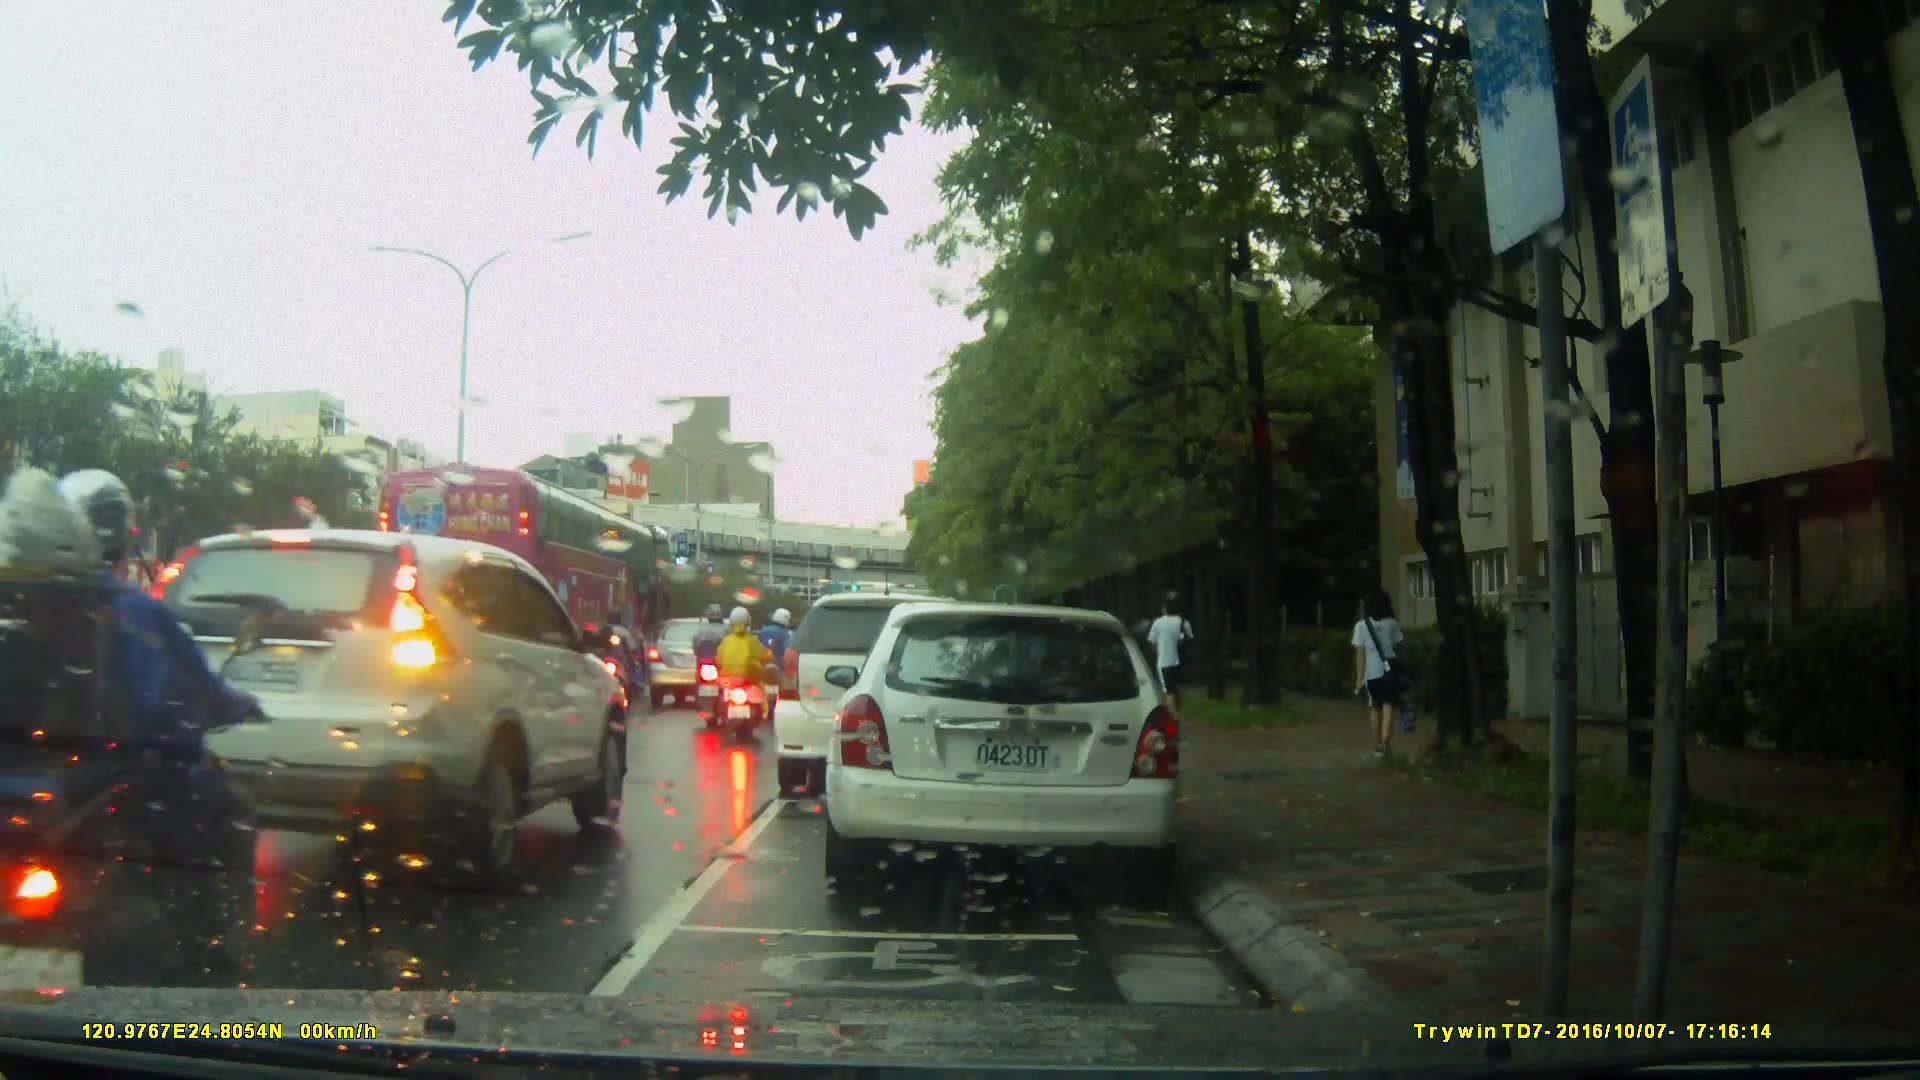pedestrian: (1336, 582, 1420, 777), (1146, 590, 1196, 726)
rider: (1, 457, 280, 1051), (712, 605, 765, 745), (584, 605, 651, 708), (686, 598, 739, 723), (757, 605, 803, 712)
vehicle: (123, 526, 632, 898), (835, 594, 1194, 898), (365, 466, 672, 685), (776, 590, 1026, 784), (648, 616, 761, 704)
